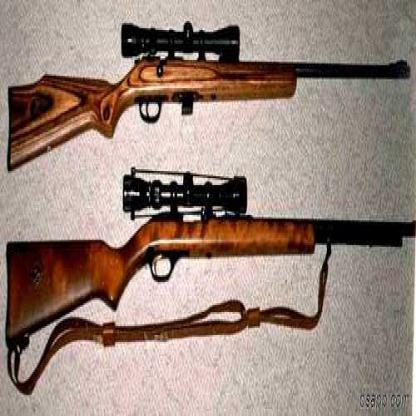rifle: (3, 6, 415, 184), (3, 201, 415, 377)
